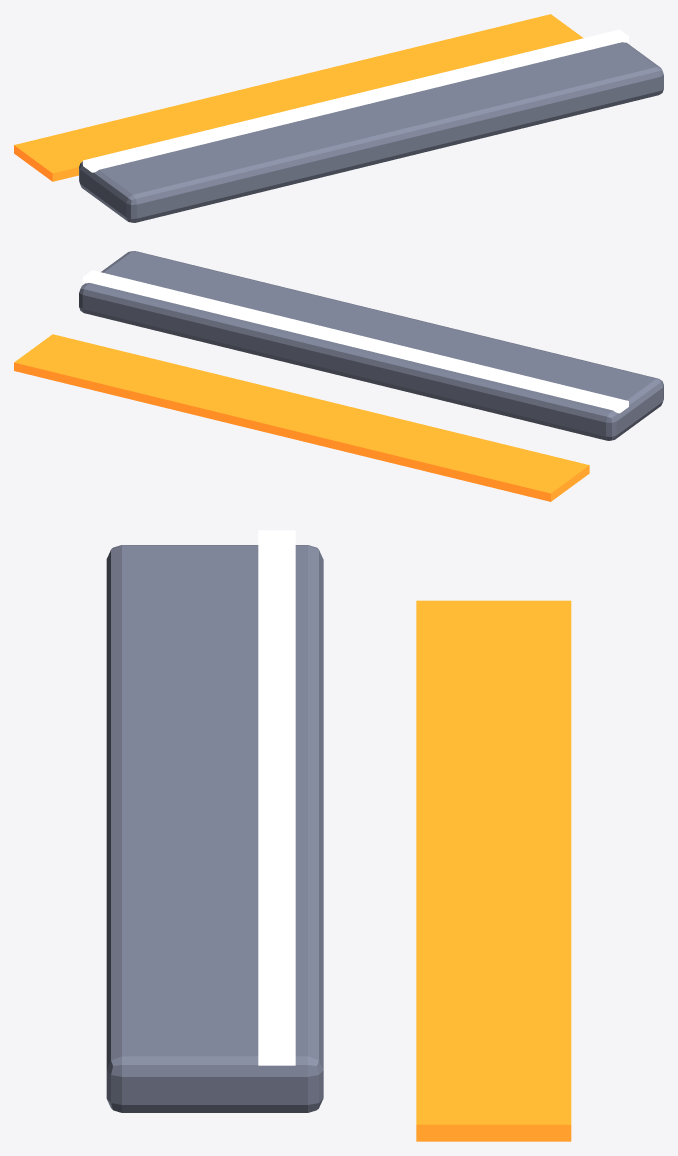
File: bord_fosse.glb
3 renders of one model, top to bottom at view 1: azimuth 30°, elevation 25°; view 2: azimuth 150°, elevation 25°; view 3: azimuth 270°, elevation 25°, orthographic. The views are drawn at different scales.
Parts seen in each view (by area): view 1: Rebord, Danger, Ligne; view 2: Rebord, Danger, Ligne; view 3: Rebord, Danger, Ligne.
Boxes of the visible parts, box(x1,y1,x2,y2) form: Rebord: box(79, 42, 663, 222); Danger: box(14, 14, 583, 181); Ligne: box(83, 29, 628, 172); Rebord: box(79, 251, 663, 440); Danger: box(14, 334, 589, 501); Ligne: box(83, 270, 628, 413); Rebord: box(106, 545, 323, 1112); Danger: box(416, 600, 571, 1141); Ligne: box(258, 530, 295, 1065).
Size of the model in its own units: 4 by 0.31 by 1.5.
